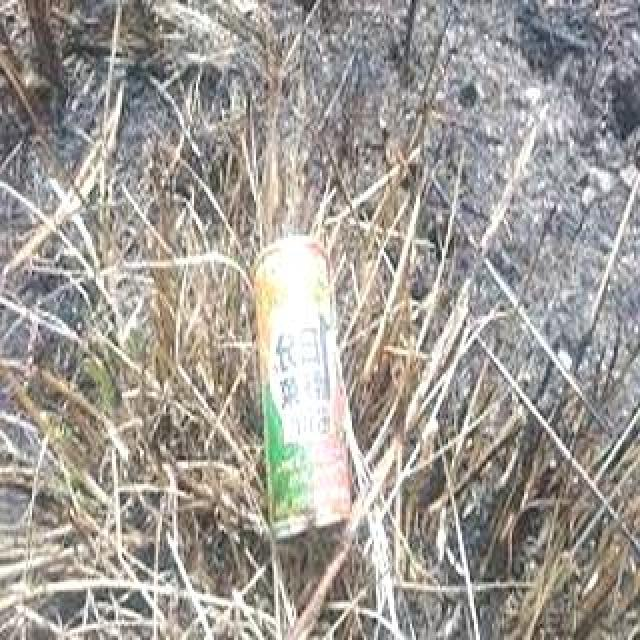Can: (239, 226, 361, 546)
